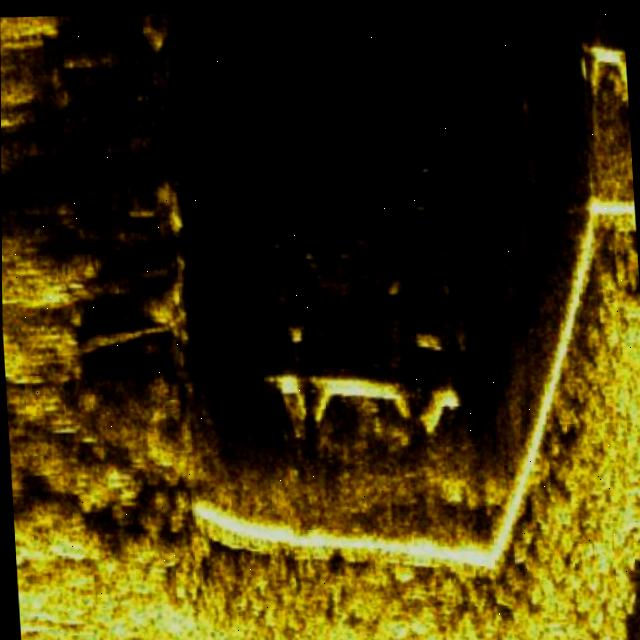bedrock group: (1, 209, 640, 640)
